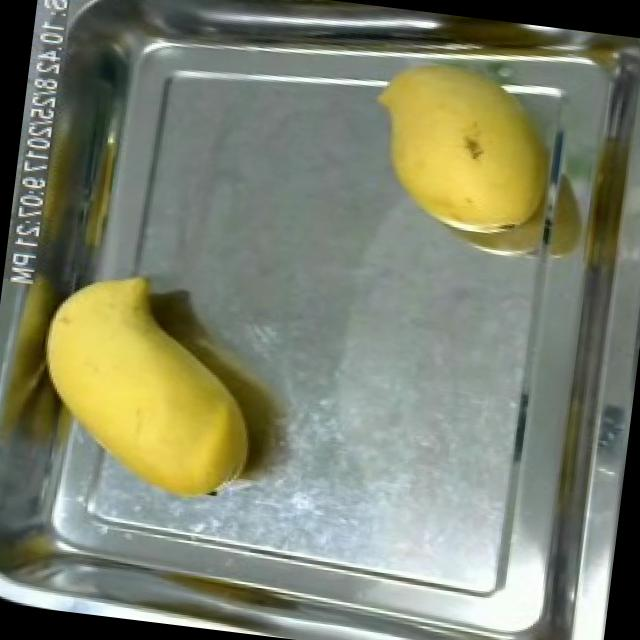fruit: (12, 253, 287, 518), (361, 42, 574, 254)
